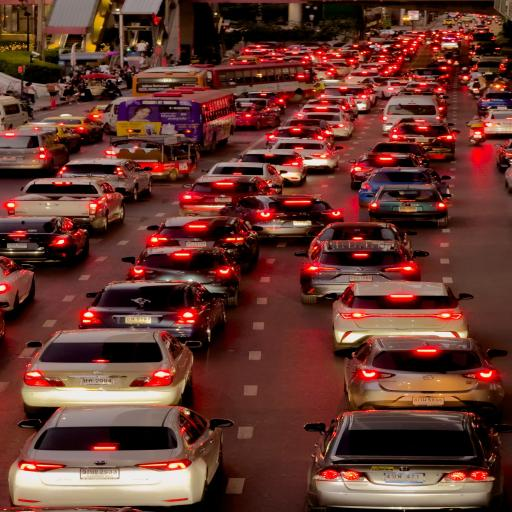car: (9, 405, 232, 509), (305, 411, 511, 511), (22, 326, 192, 415), (344, 337, 507, 416), (333, 280, 472, 352), (79, 280, 225, 345), (295, 240, 428, 303), (123, 247, 240, 306), (5, 177, 125, 233), (147, 217, 258, 272), (219, 195, 342, 237), (105, 134, 199, 181), (0, 216, 88, 262), (58, 159, 152, 201), (180, 176, 281, 215), (359, 168, 450, 207), (368, 184, 450, 227), (309, 222, 416, 254), (0, 129, 68, 175), (390, 120, 459, 161), (348, 153, 423, 189), (382, 95, 447, 135), (236, 150, 306, 186), (270, 139, 342, 171), (203, 162, 283, 188), (296, 106, 354, 139), (0, 257, 35, 311), (18, 123, 81, 152), (42, 114, 103, 143), (366, 141, 429, 166), (320, 85, 376, 112), (267, 126, 331, 145), (236, 103, 280, 130), (397, 86, 449, 108), (305, 97, 358, 117), (240, 91, 285, 114), (361, 77, 407, 98), (322, 57, 358, 83), (477, 89, 511, 115), (281, 117, 331, 134), (237, 98, 281, 115), (484, 109, 511, 134), (406, 80, 447, 96), (410, 68, 449, 84), (471, 61, 505, 79), (345, 69, 381, 84), (495, 139, 511, 170), (231, 51, 264, 65), (85, 104, 108, 122), (475, 52, 508, 63), (313, 64, 337, 79), (505, 167, 512, 194)
